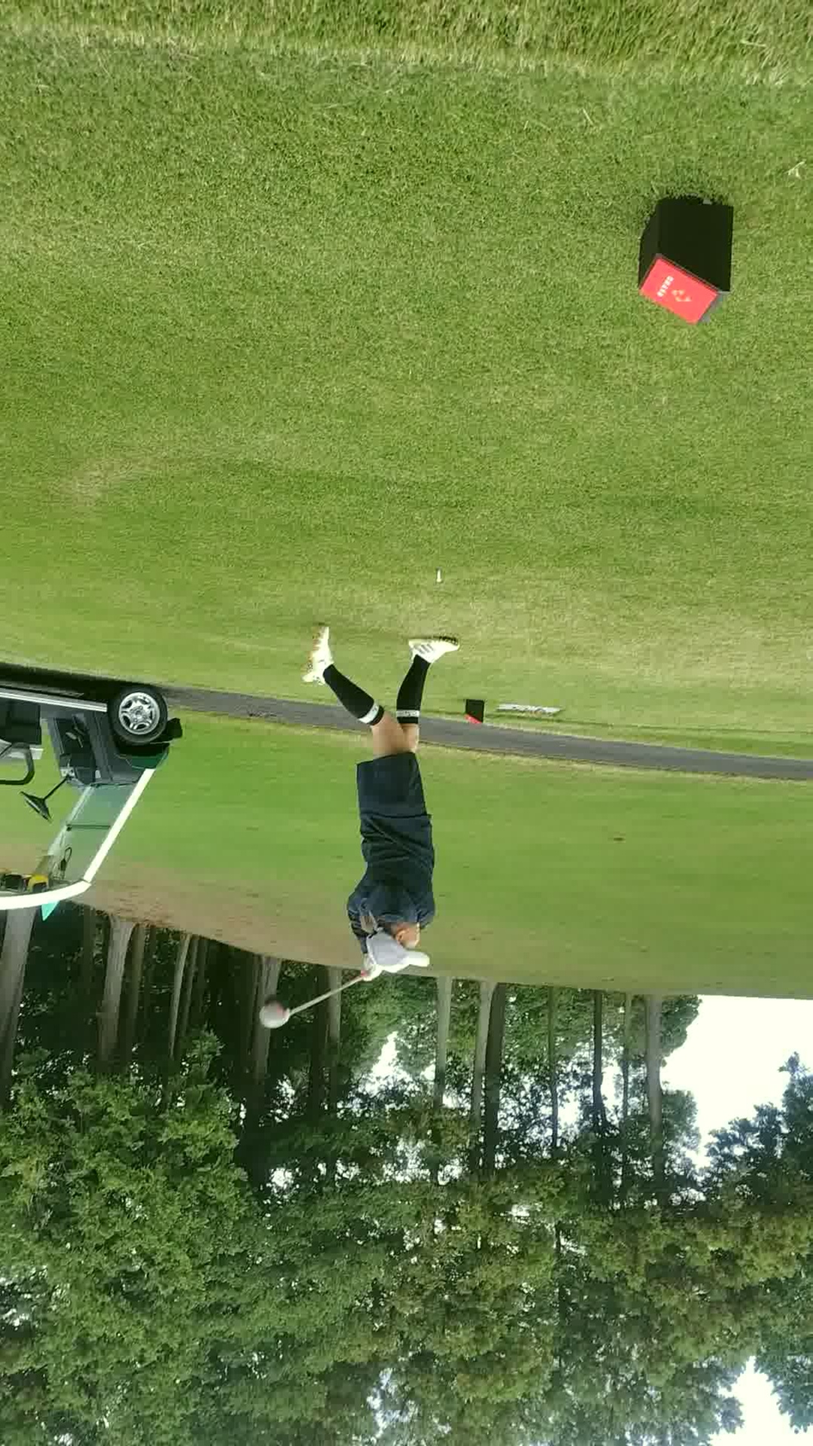clubhead: (210, 918, 370, 1075)
